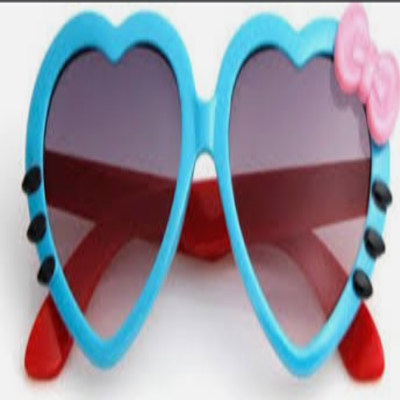glasses: (16, 6, 400, 386)
